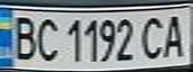1: (60, 16, 84, 63), (81, 16, 100, 63)
2: (115, 15, 139, 63)
9: (97, 16, 118, 63)
A: (157, 11, 193, 60)
B: (6, 12, 39, 62)
C: (136, 14, 169, 61), (33, 15, 60, 62)
